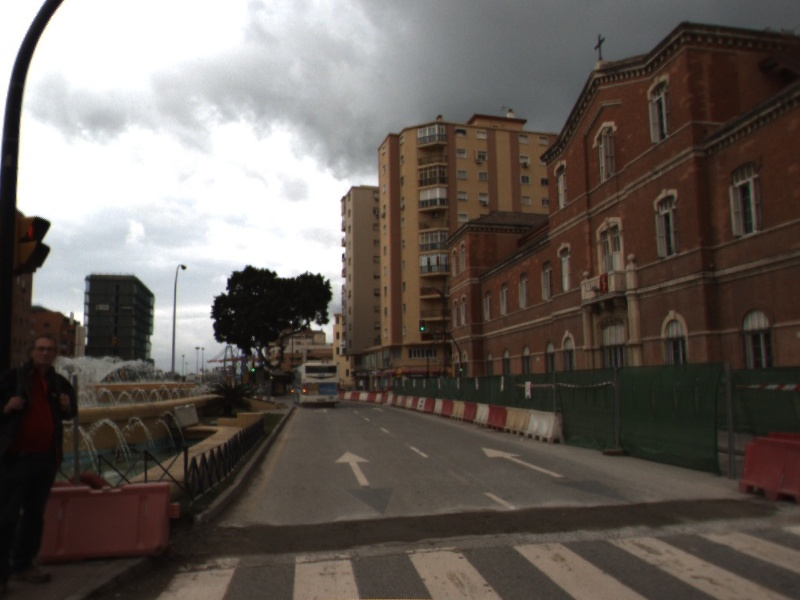STRAIGHT: (480, 445, 568, 479), (333, 449, 373, 488)
